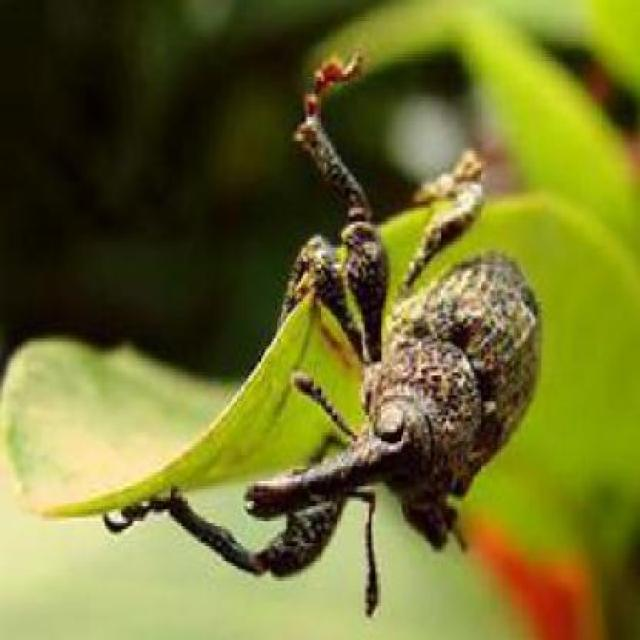rice-bug: (240, 159, 545, 581)
